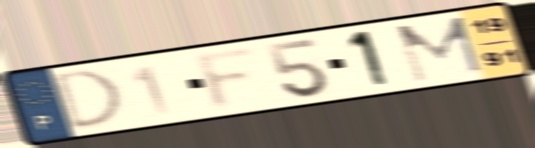1: (342, 27, 394, 90), (131, 63, 172, 116)
5: (263, 36, 332, 100)
D: (52, 67, 128, 134)
F: (192, 43, 261, 114)
M: (392, 13, 488, 85)
